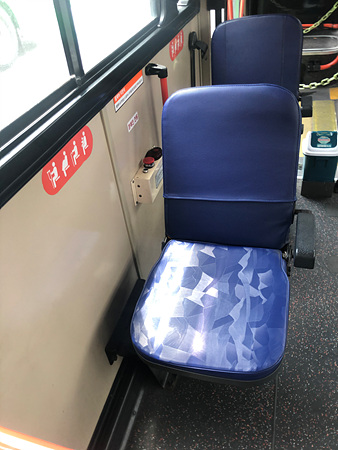seat: (135, 85, 293, 371)
